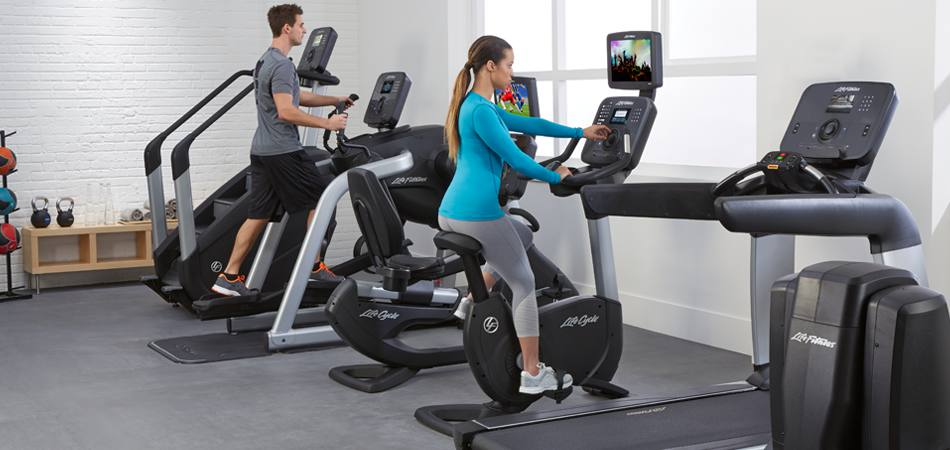gym_bike: (424, 43, 672, 409)
